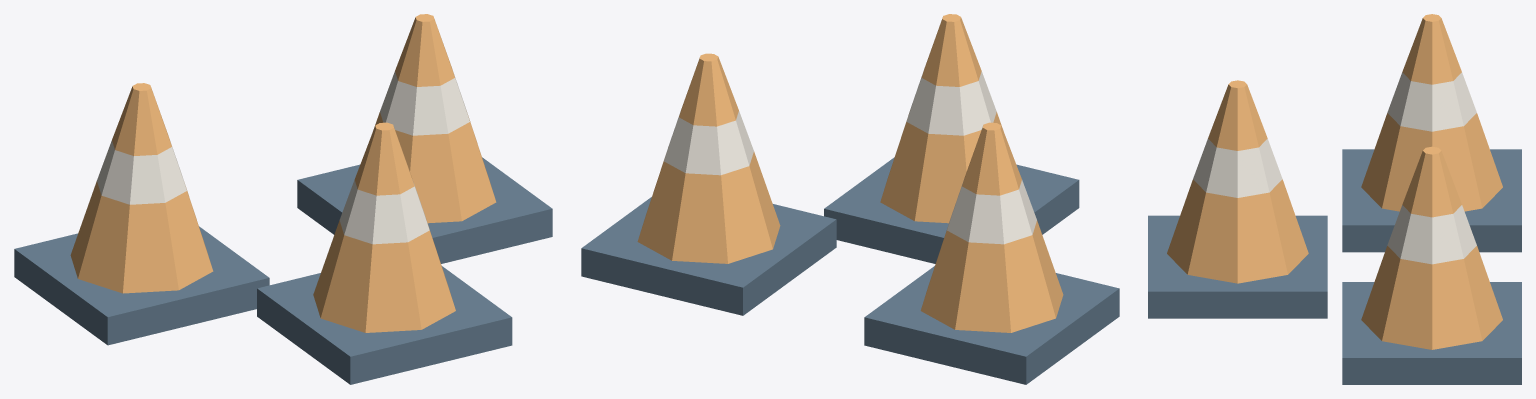
File: 24_cone_cluster.glb
3 views of the same model, side by side, from view 1: azimuth 30°, elevation 25°; view 2: azimuth 150°, elevation 25°; view 3: azimuth 270°, elevation 25° (orthographic). The views are drawn at different scales.
Parts seen in each view (by area): view 1: 24_cone_cluster; view 2: 24_cone_cluster; view 3: 24_cone_cluster.
Boxes of the visible parts, left/top/right/bottom form: 24_cone_cluster: left=14, top=14, right=552, bottom=384; 24_cone_cluster: left=581, top=14, right=1119, bottom=384; 24_cone_cluster: left=1148, top=14, right=1521, bottom=384.
Bounding box in the file's own units: 1.32 × 0.58 × 1.
